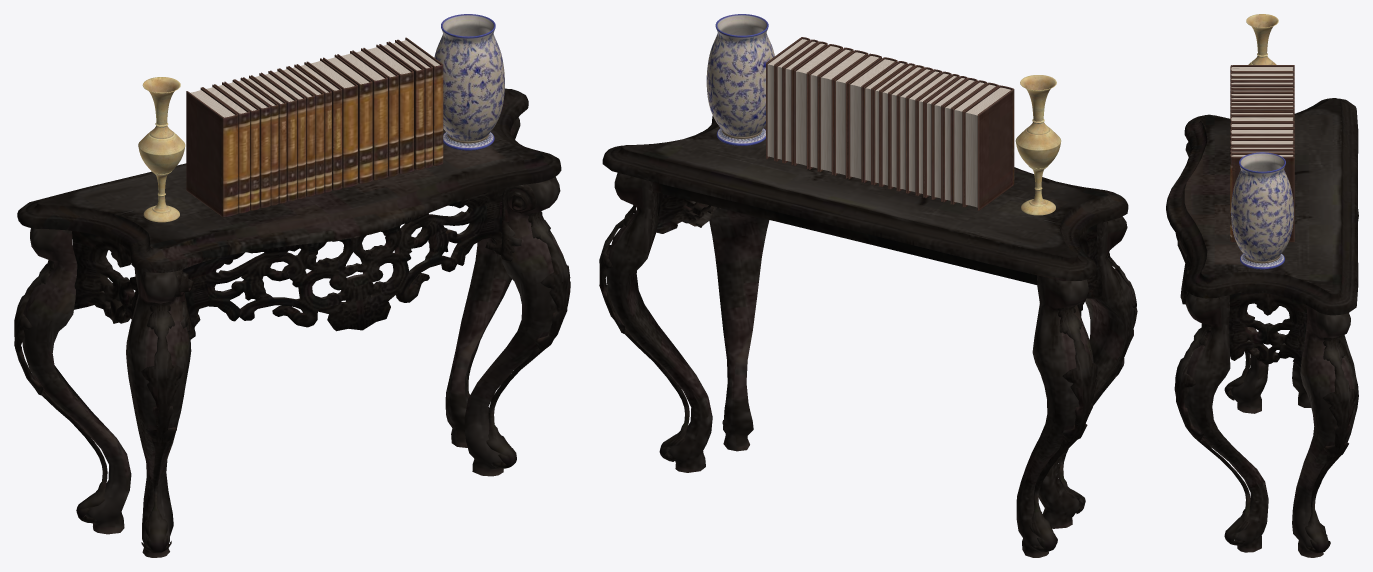
Rendered from console_v2.glb.
The picture shows the model from 3 angles, left to right: view 1: azimuth 30°, elevation 25°; view 2: azimuth 150°, elevation 25°; view 3: azimuth 270°, elevation 25°; orthographic projection. The views are drawn at different scales.
Parts seen in each view (by area): view 1: ClassicConsole_01, antique_ceramic_vase_01, book_encyclopedia_set_01_book01, brass_vase_01, book_encyclopedia_set_01_book13, book_encyclopedia_set_01_book15, book_encyclopedia_set_01_book17, book_encyclopedia_set_01_book14, book_encyclopedia_set_01_book02, book_encyclopedia_set_01_book04, book_encyclopedia_set_01_book16, book_encyclopedia_set_01_book18 (+11 smaller); view 2: ClassicConsole_01, antique_ceramic_vase_01, book_encyclopedia_set_01_book01, brass_vase_01, book_encyclopedia_set_01_book13, book_encyclopedia_set_01_book15, book_encyclopedia_set_01_book17, book_encyclopedia_set_01_book14, book_encyclopedia_set_01_book02, book_encyclopedia_set_01_book04, book_encyclopedia_set_01_book16, book_encyclopedia_set_01_book07 (+11 smaller); view 3: ClassicConsole_01, antique_ceramic_vase_01, book_encyclopedia_set_01_book20, brass_vase_01, book_encyclopedia_set_01_book13, book_encyclopedia_set_01_book01, book_encyclopedia_set_01_book14, book_encyclopedia_set_01_book17, book_encyclopedia_set_01_book15, book_encyclopedia_set_01_book02, book_encyclopedia_set_01_book16, book_encyclopedia_set_01_book03 (+11 smaller).
Boxes of the visible parts, box(x1,y1,x2,y2) form: ClassicConsole_01: box(14, 88, 570, 557); antique_ceramic_vase_01: box(434, 14, 504, 150); book_encyclopedia_set_01_book01: box(186, 87, 238, 217); brass_vase_01: box(138, 77, 185, 222); book_encyclopedia_set_01_book13: box(306, 58, 357, 187); book_encyclopedia_set_01_book15: box(337, 51, 387, 180); book_encyclopedia_set_01_book17: box(363, 44, 413, 174); book_encyclopedia_set_01_book14: box(323, 54, 372, 183); book_encyclopedia_set_01_book02: box(202, 84, 249, 213); book_encyclopedia_set_01_book04: box(224, 79, 270, 208); book_encyclopedia_set_01_book16: box(352, 48, 398, 176); book_encyclopedia_set_01_book18: box(379, 42, 424, 170); ClassicConsole_01: box(599, 116, 1137, 557); antique_ceramic_vase_01: box(706, 14, 774, 145); book_encyclopedia_set_01_book01: box(964, 85, 1014, 210); brass_vase_01: box(1015, 75, 1061, 215); book_encyclopedia_set_01_book13: box(848, 57, 897, 182); book_encyclopedia_set_01_book15: box(819, 50, 868, 175); book_encyclopedia_set_01_book17: box(794, 44, 842, 169); book_encyclopedia_set_01_book14: box(834, 53, 881, 178); book_encyclopedia_set_01_book02: box(952, 82, 998, 207); book_encyclopedia_set_01_book04: box(932, 77, 977, 201); book_encyclopedia_set_01_book16: box(809, 47, 853, 171); book_encyclopedia_set_01_book07: box(907, 71, 951, 195); ClassicConsole_01: box(1166, 98, 1358, 557); antique_ceramic_vase_01: box(1231, 152, 1293, 269); book_encyclopedia_set_01_book20: box(1230, 153, 1294, 242); brass_vase_01: box(1246, 14, 1278, 64); book_encyclopedia_set_01_book13: box(1230, 115, 1294, 123); book_encyclopedia_set_01_book01: box(1230, 65, 1294, 72); book_encyclopedia_set_01_book14: box(1230, 122, 1294, 129); book_encyclopedia_set_01_book17: box(1230, 139, 1294, 146); book_encyclopedia_set_01_book15: box(1230, 128, 1294, 134); book_encyclopedia_set_01_book02: box(1230, 71, 1294, 77); book_encyclopedia_set_01_book16: box(1230, 134, 1294, 140); book_encyclopedia_set_01_book03: box(1230, 76, 1294, 81).
Size of the model in its own units: 1.4 by 1.2 by 0.534.
Materials: 5 (5 with a texture image).
